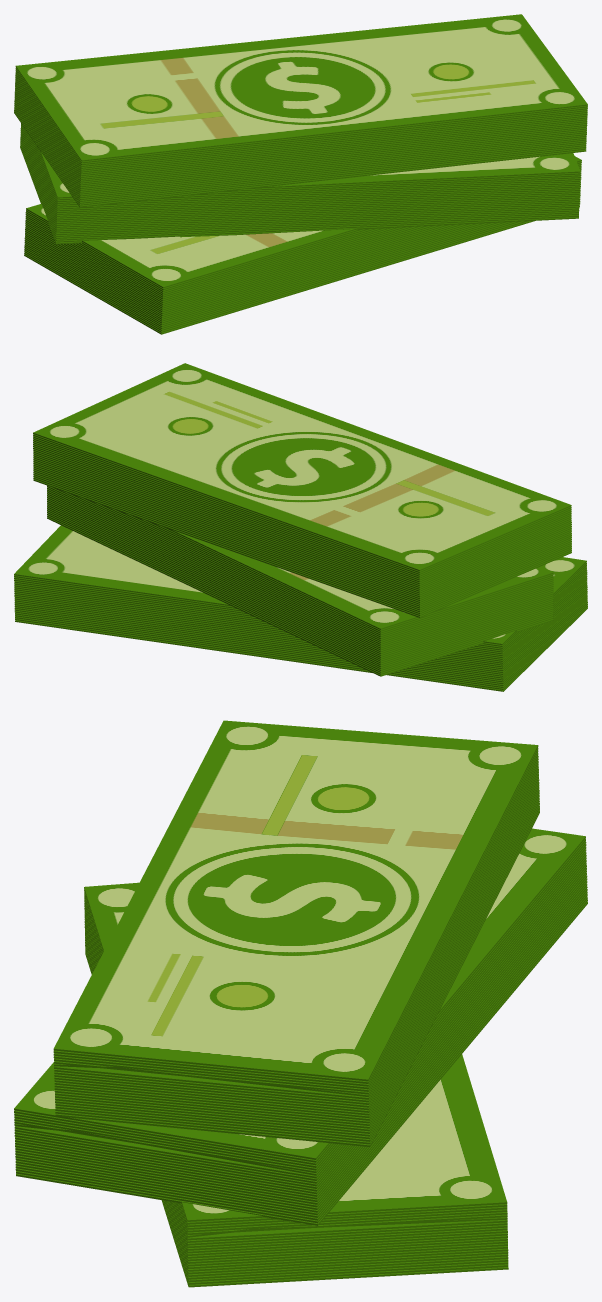
File: Money.fbx
3 renders of one model, top to bottom at view 1: azimuth 30°, elevation 25°; view 2: azimuth 150°, elevation 25°; view 3: azimuth 270°, elevation 25°, orthographic. The views are drawn at different scales.
Visible parts, largest first — view 1: Plane.003, Plane.001, Plane.002; view 2: Plane.003, Plane.002, Plane.001; view 3: Plane.003, Plane.001, Plane.002.
Boxes of the visible parts, left/top/right/bottom form: Plane.003: left=14, top=14, right=587, bottom=207; Plane.001: left=20, top=123, right=580, bottom=244; Plane.002: left=24, top=156, right=581, bottom=334; Plane.003: left=33, top=363, right=571, bottom=617; Plane.002: left=14, top=525, right=587, bottom=691; Plane.001: left=47, top=485, right=553, bottom=676; Plane.003: left=53, top=720, right=539, bottom=1146; Plane.001: left=14, top=828, right=587, bottom=1225; Plane.002: left=84, top=882, right=508, bottom=1287.
Bounding box in the file's own units: 211 × 65.16 × 146.
1 material, 1 textured.
